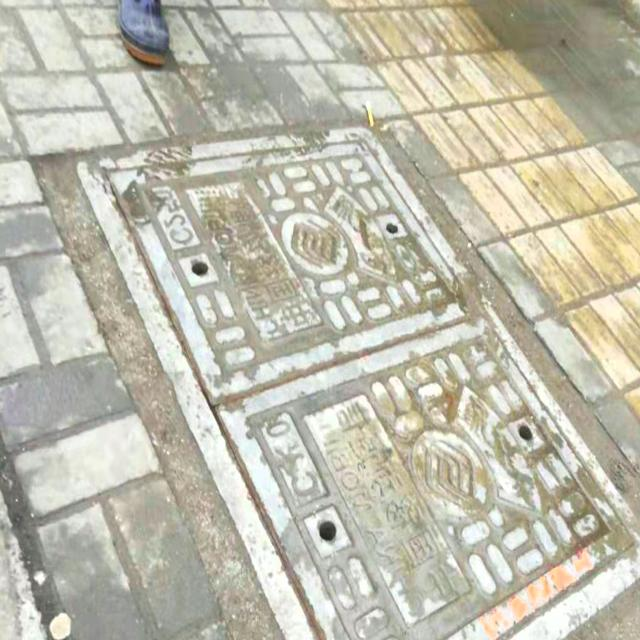good: (77, 126, 640, 640)
